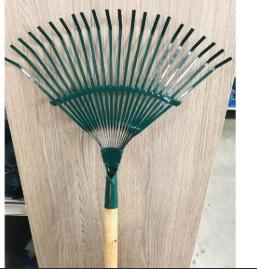RATEAU: (4, 1, 253, 269)
